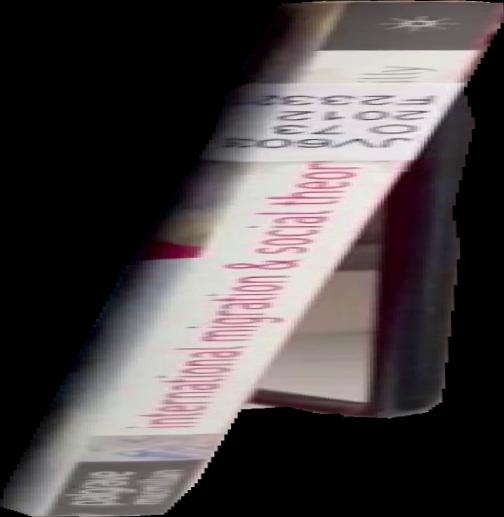reverse: (1, 1, 504, 517)
